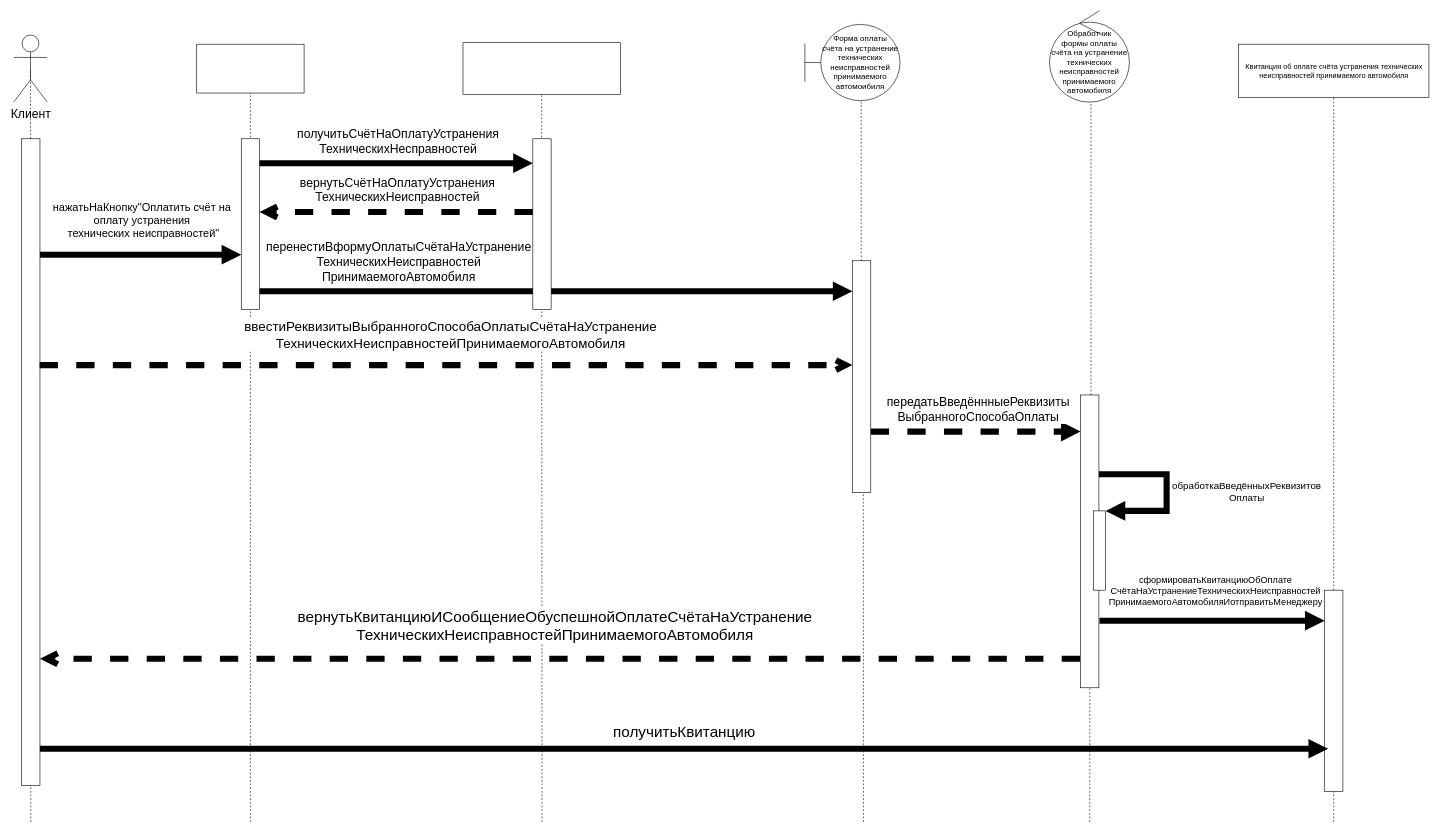
This 1440x833 diagram has some shape labels left out. Here are the shapes that lost their labels. From the top down, the box of each, then its label:
(196, 44, 304, 93): Заявка на закрытие текущего проката/аренды
(462, 42, 620, 95): Счёт на оплату устранения технических неисправностей принимаемого автомобиля
